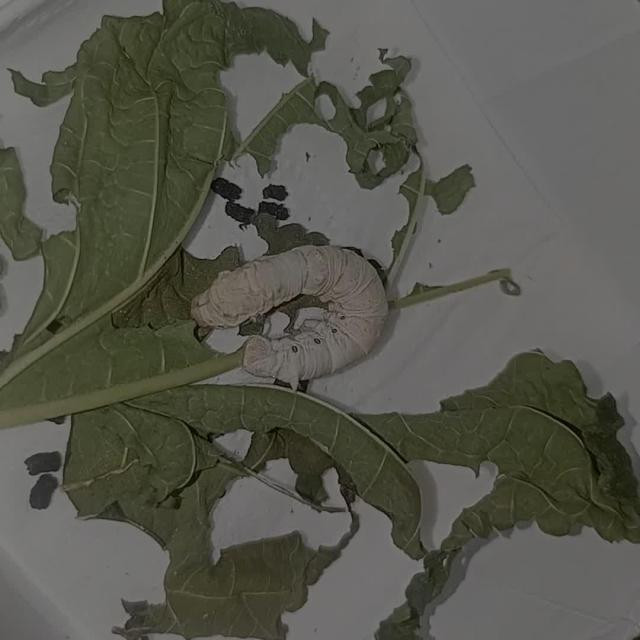Healthy: (160, 218, 402, 399)
